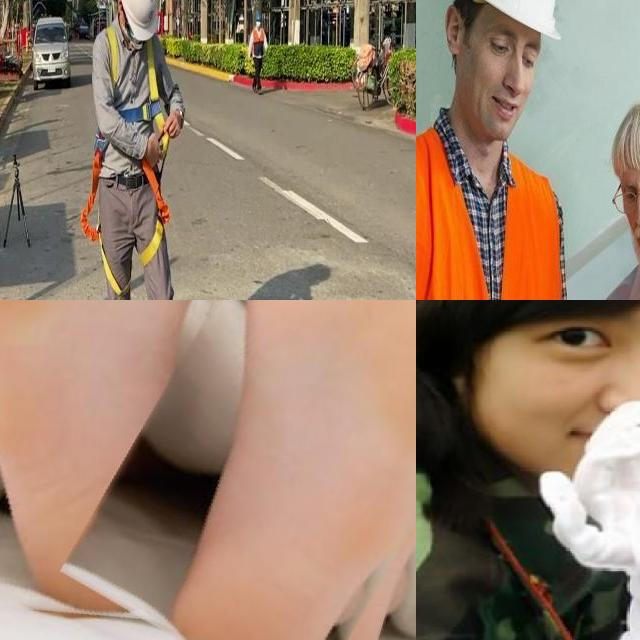Barefoots: (73, 300, 416, 640), (0, 300, 304, 640)
Harness: (103, 31, 170, 156), (80, 135, 130, 296), (138, 158, 171, 268)
face_nomask: (465, 300, 640, 470), (472, 30, 544, 130), (617, 174, 640, 264)
glasses: (610, 175, 640, 217)
hand_glove: (544, 382, 640, 640)
head_helmet: (441, 0, 571, 46)
head_nohelmet: (605, 96, 640, 168)
person: (416, 300, 640, 640), (416, 0, 585, 300)
vest: (416, 131, 568, 300)
